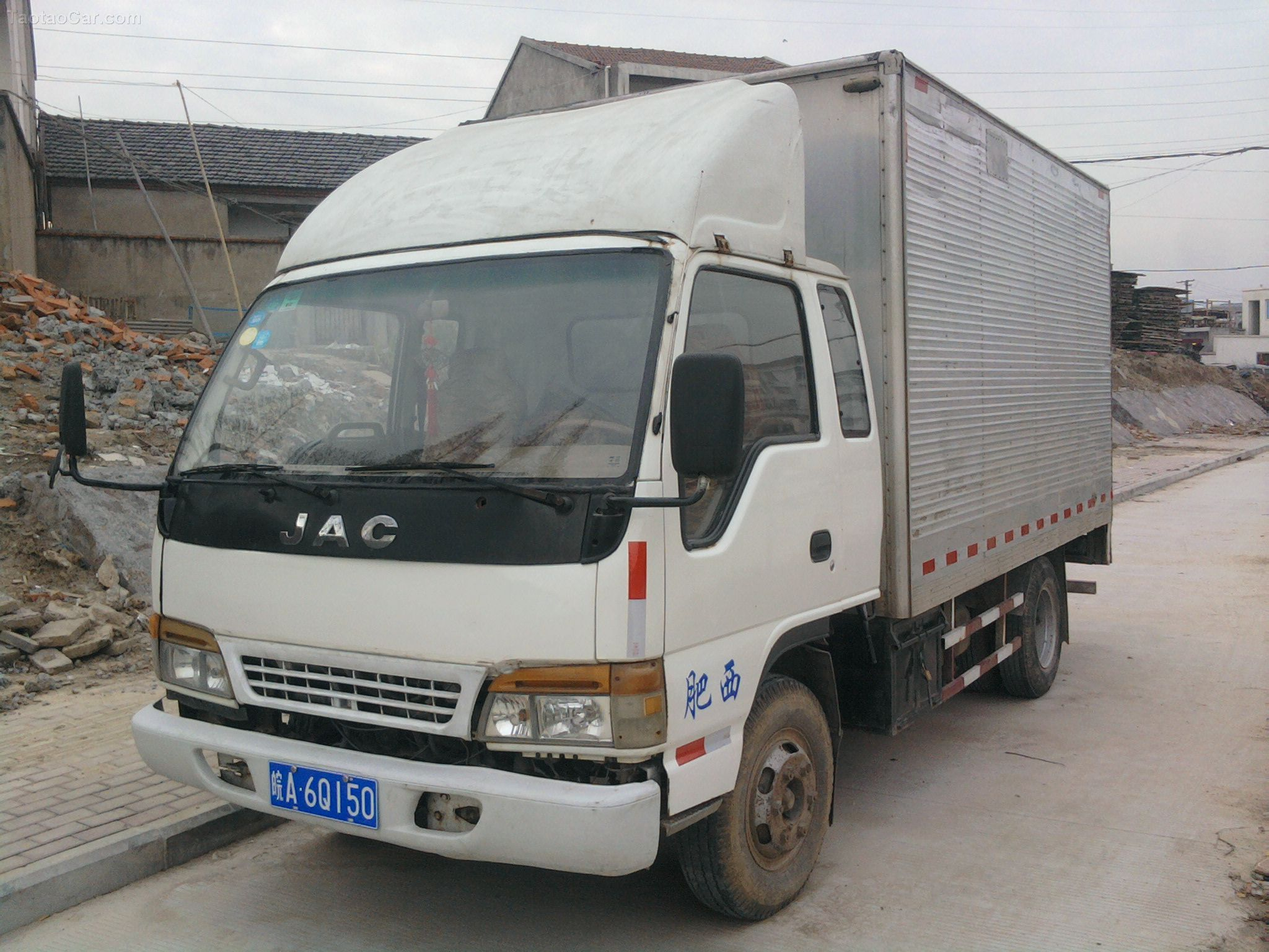smalltruck: (141, 48, 1146, 920)
